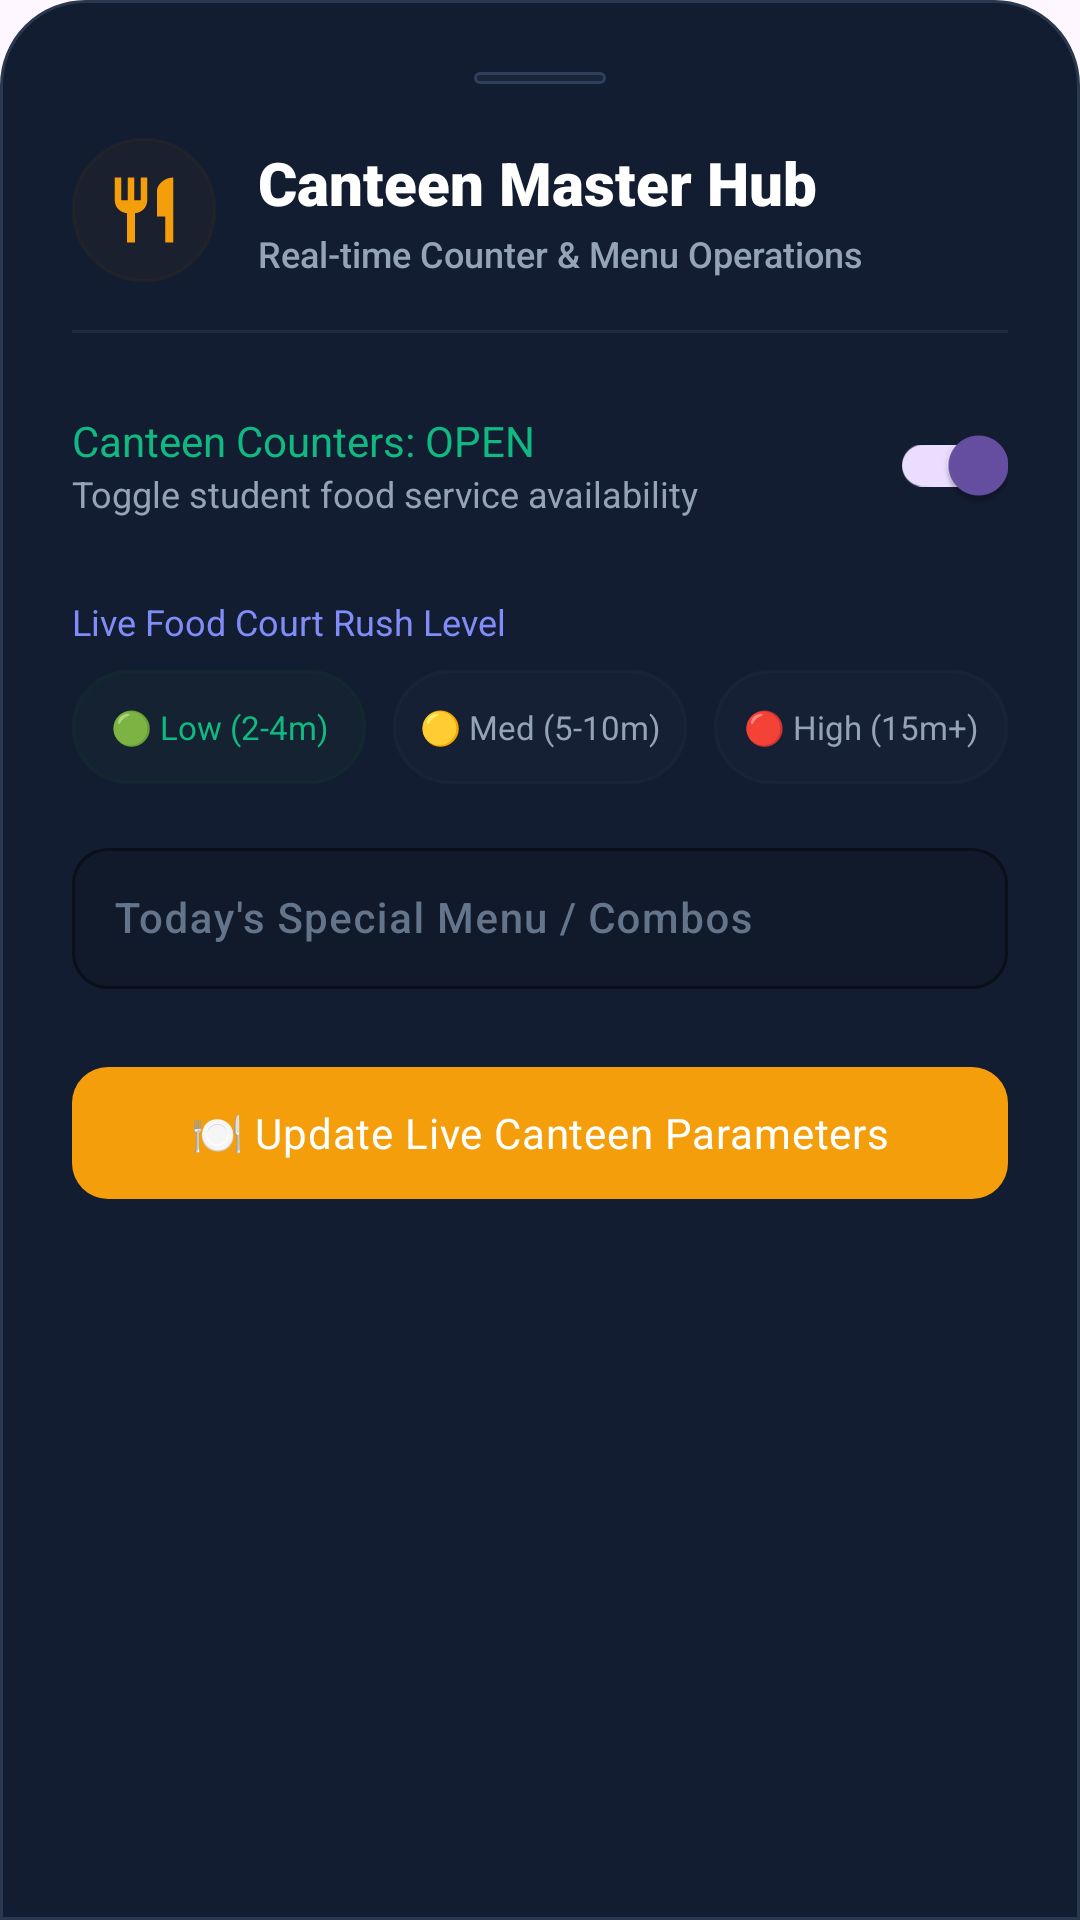

Icons on this 1080w x 1920h Android screen, each with the point to tap as (x,y):
Canteen Control: (144,210)
